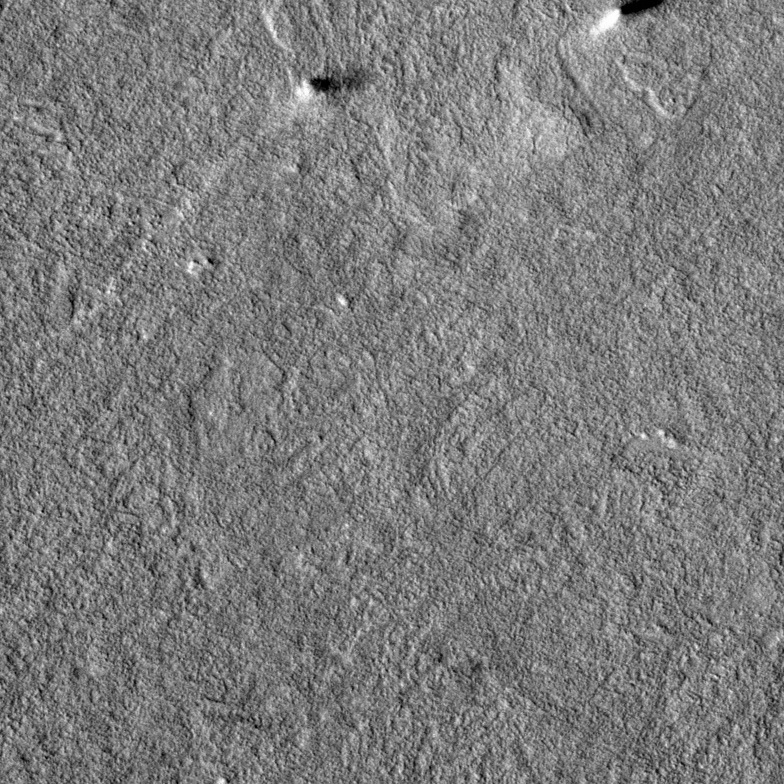dust_devil: (294, 66, 374, 104), (588, 1, 668, 37)
